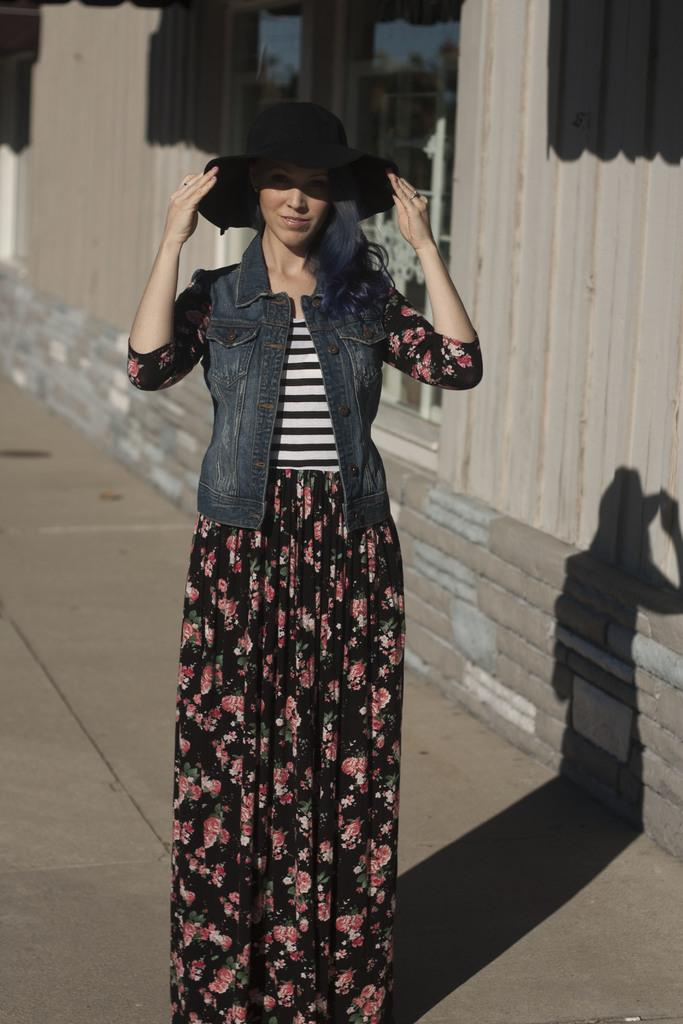Hat: (192, 108, 400, 232)
